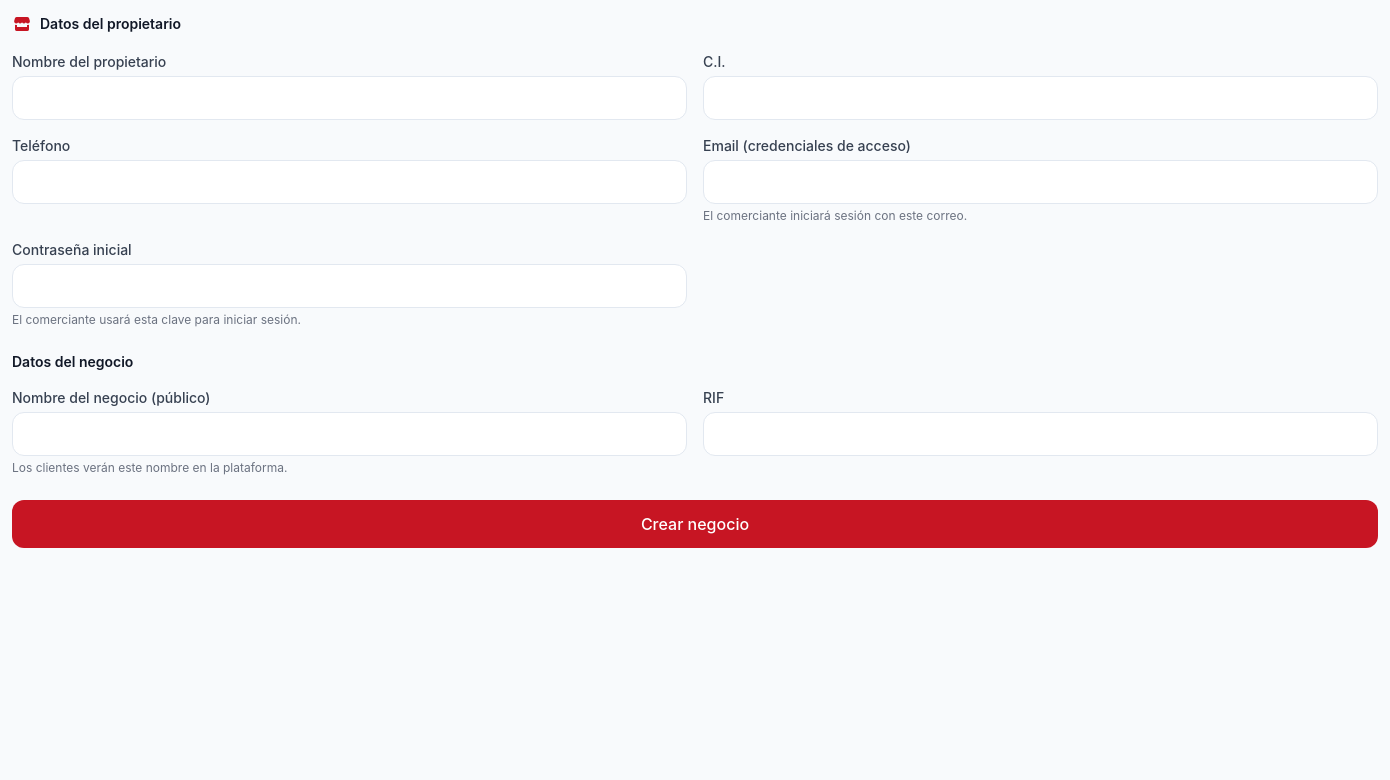
Test: CreateMerchantForm › muestra un error de validación y no envía cuando faltan campos
The image size is (1390, 780).
Click the button "Crear negocio".
click(695, 524)  # box [12, 500, 1378, 548]
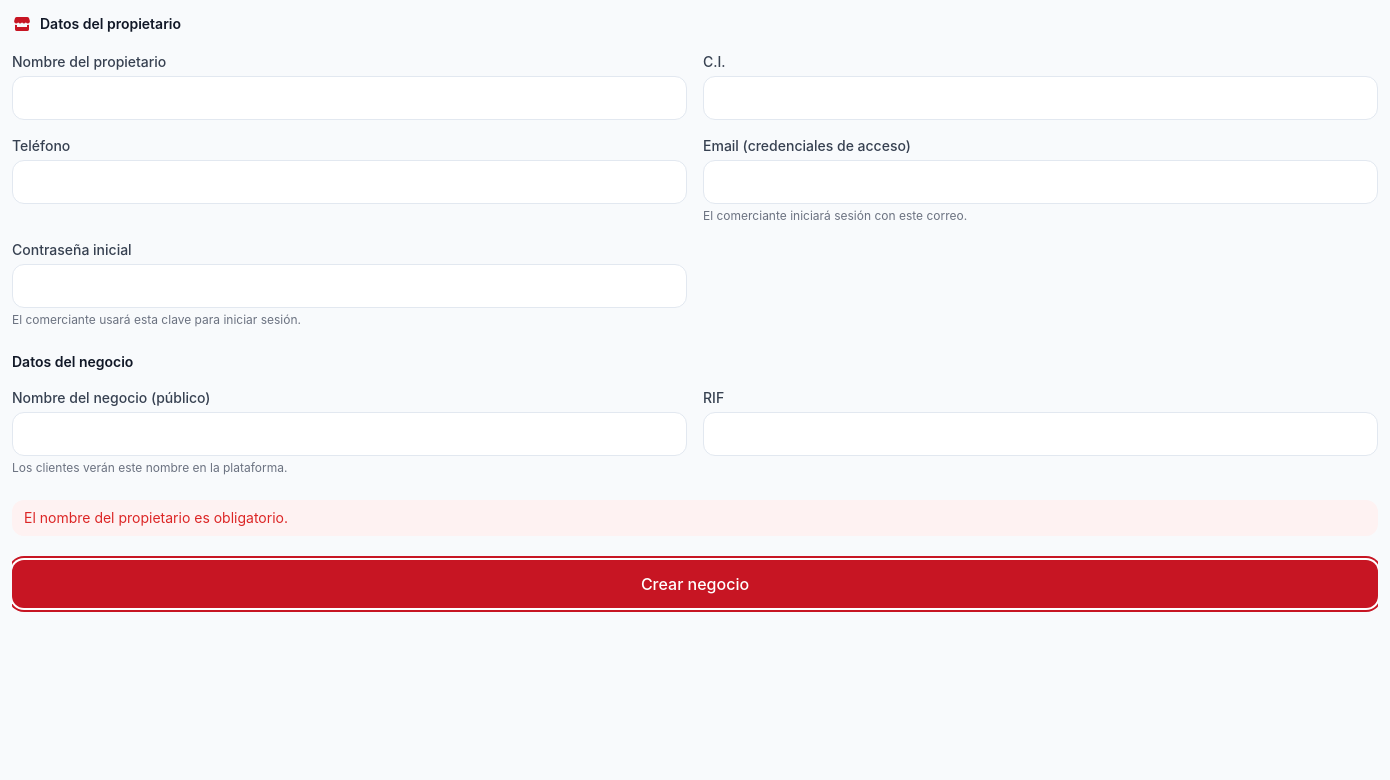
Result: the message reads "El nombre del propietario es obligatorio." at [24, 509, 288, 526]
